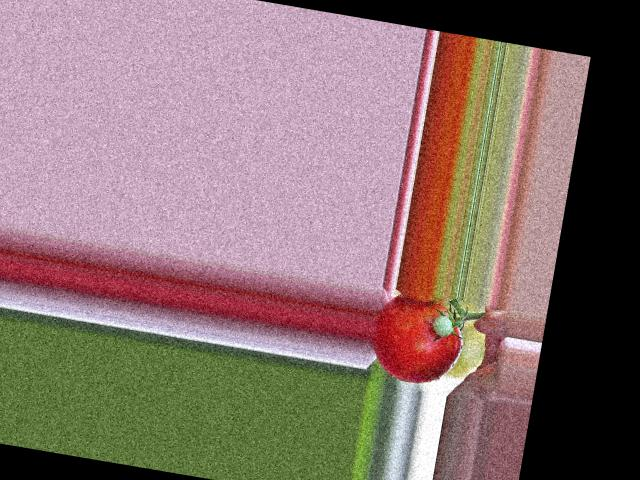tomato: (365, 291, 469, 389)
